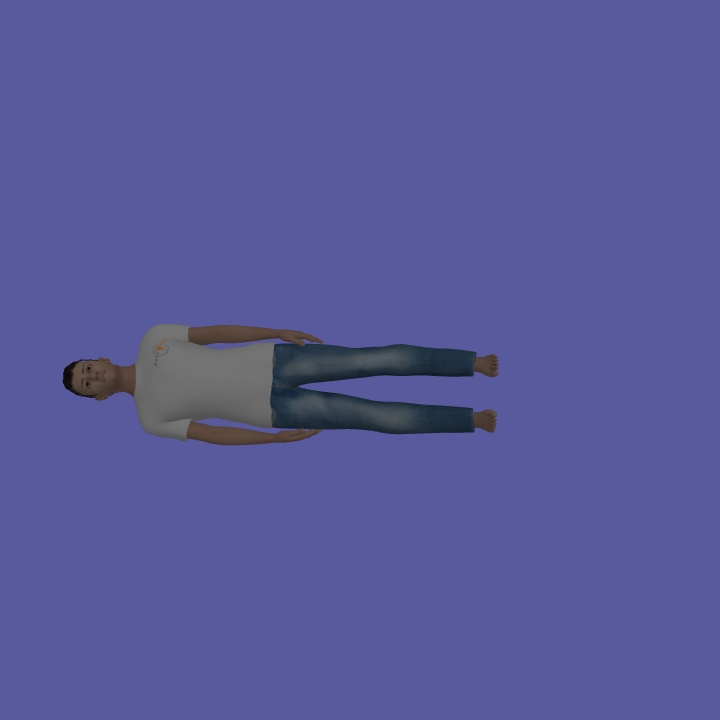victim: (56, 317, 502, 446)
